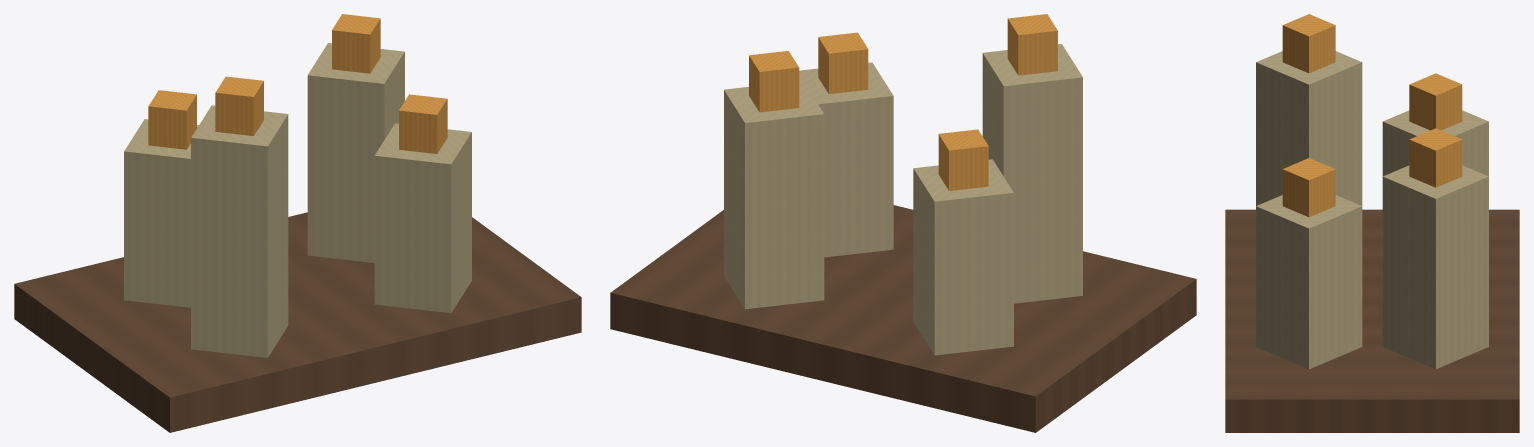
File: atlas100-s011-a04.lod2.glb
3 views of the same model, side by side, from view 1: azimuth 30°, elevation 25°; view 2: azimuth 150°, elevation 25°; view 3: azimuth 270°, elevation 25° (orthographic). The views are drawn at different scales.
Parts seen in each view (by area): view 1: atlas100-s011-a04:part-000, atlas100-s011-a04:part-007, atlas100-s011-a04:part-010, atlas100-s011-a04:part-004, atlas100-s011-a04:part-001, atlas100-s011-a04:part-008, atlas100-s011-a04:part-011, atlas100-s011-a04:part-005, atlas100-s011-a04:part-002; view 2: atlas100-s011-a04:part-000, atlas100-s011-a04:part-004, atlas100-s011-a04:part-007, atlas100-s011-a04:part-001, atlas100-s011-a04:part-010, atlas100-s011-a04:part-008, atlas100-s011-a04:part-002, atlas100-s011-a04:part-005, atlas100-s011-a04:part-011; view 3: atlas100-s011-a04:part-000, atlas100-s011-a04:part-004, atlas100-s011-a04:part-010, atlas100-s011-a04:part-007, atlas100-s011-a04:part-001, atlas100-s011-a04:part-005, atlas100-s011-a04:part-008, atlas100-s011-a04:part-011, atlas100-s011-a04:part-002.
Boxes of the visible parts, x1,y1,x2,y2 form: atlas100-s011-a04:part-000: [14, 212, 581, 432]; atlas100-s011-a04:part-007: [191, 105, 288, 357]; atlas100-s011-a04:part-010: [374, 123, 471, 313]; atlas100-s011-a04:part-004: [307, 43, 404, 262]; atlas100-s011-a04:part-001: [124, 119, 198, 307]; atlas100-s011-a04:part-008: [215, 76, 263, 135]; atlas100-s011-a04:part-011: [399, 94, 447, 153]; atlas100-s011-a04:part-005: [332, 14, 380, 73]; atlas100-s011-a04:part-002: [148, 90, 196, 149]; atlas100-s011-a04:part-000: [610, 205, 1196, 432]; atlas100-s011-a04:part-004: [724, 80, 824, 309]; atlas100-s011-a04:part-007: [982, 44, 1082, 303]; atlas100-s011-a04:part-001: [913, 159, 1013, 355]; atlas100-s011-a04:part-010: [799, 62, 893, 257]; atlas100-s011-a04:part-008: [1007, 14, 1057, 75]; atlas100-s011-a04:part-002: [938, 129, 988, 190]; atlas100-s011-a04:part-005: [749, 51, 799, 112]; atlas100-s011-a04:part-011: [818, 32, 868, 93]; atlas100-s011-a04:part-000: [1225, 209, 1519, 432]; atlas100-s011-a04:part-004: [1382, 165, 1488, 369]; atlas100-s011-a04:part-010: [1256, 195, 1362, 369]; atlas100-s011-a04:part-007: [1256, 51, 1362, 205]; atlas100-s011-a04:part-001: [1382, 110, 1488, 176]; atlas100-s011-a04:part-005: [1409, 128, 1462, 187]; atlas100-s011-a04:part-008: [1282, 14, 1335, 73]; atlas100-s011-a04:part-011: [1282, 158, 1335, 217]; atlas100-s011-a04:part-002: [1409, 73, 1462, 130].
Size of the model in its own units: 1.18 by 0.7804 by 0.7697.
Materials: 3 (3 with a texture image).
